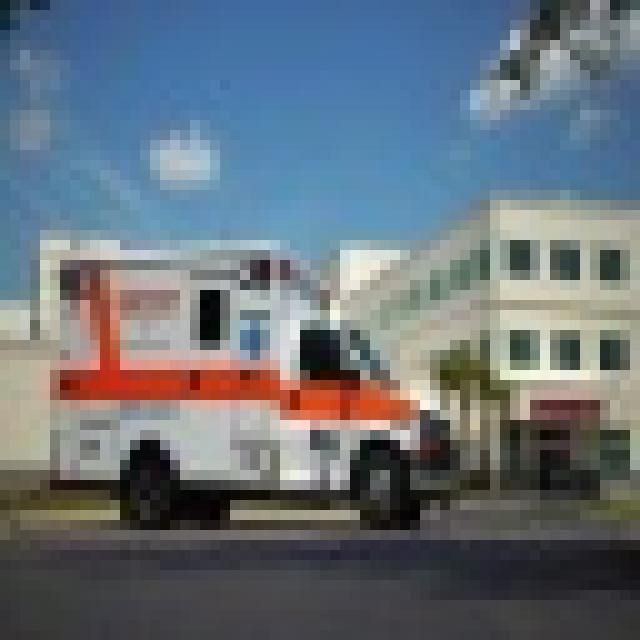Ambulance: (30, 230, 460, 520)
